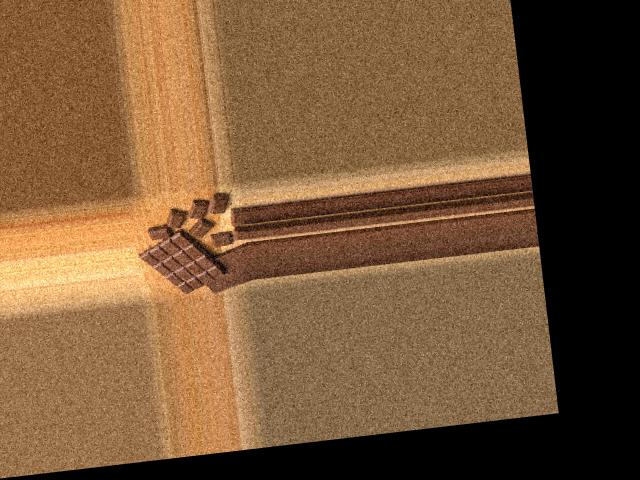chocolate: (138, 222, 228, 299)
